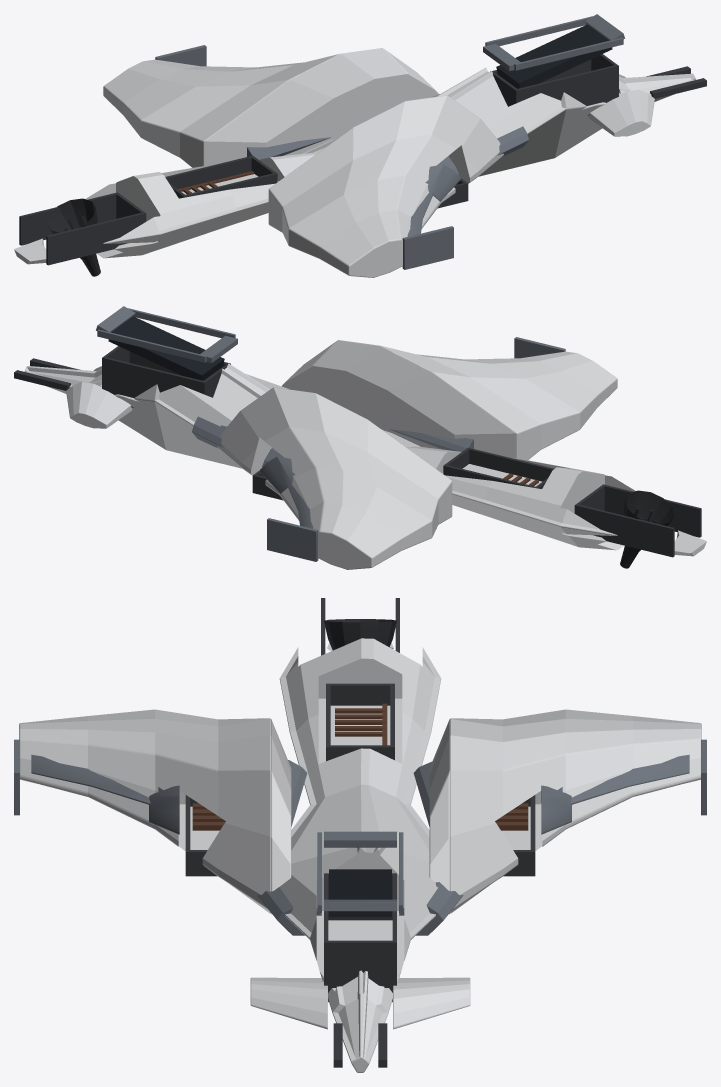
Rendered from hornet_production_v1_lod1.glb.
3 renders of one model, top to bottom at view 1: azimuth 30°, elevation 25°; view 2: azimuth 150°, elevation 25°; view 3: azimuth 270°, elevation 25°, orthographic. The views are drawn at different scales.
Visible parts, largest first — view 1: LOD0_Hull, LOD0_Wing_Port, LOD0_Wing_Stbd, LOD0_Drive_Fore, LOD0_VisorBrow, LOD0_Glass, LOD0_Canard_Port, LOD0_Bell; view 2: LOD0_Hull, LOD0_Wing_Stbd, LOD0_Wing_Port, LOD0_Drive_Fore, LOD0_VisorBrow, LOD0_Glass, LOD0_Canard_Stbd, LOD0_Bell; view 3: LOD0_Hull, LOD0_Wing_Port, LOD0_Wing_Stbd, LOD0_VisorBrow, LOD0_Drive_Fore, LOD0_Canard_Port, LOD0_Canard_Stbd, LOD0_RadiatorFin_Dorsal_0, LOD0_Glass, LOD0_Bell.
Boxes of the visible parts, box(x1,y1,x2,y2) form: LOD0_Hull: box(14, 48, 696, 264); LOD0_Wing_Port: box(268, 95, 503, 277); LOD0_Wing_Stbd: box(103, 48, 382, 167); LOD0_Drive_Fore: box(19, 54, 706, 265); LOD0_VisorBrow: box(155, 14, 624, 269); LOD0_Glass: box(496, 24, 612, 88); LOD0_Canard_Port: box(588, 90, 654, 136); LOD0_Bell: box(46, 198, 100, 276); LOD0_Hull: box(24, 340, 706, 556); LOD0_Wing_Stbd: box(217, 387, 452, 569); LOD0_Wing_Port: box(338, 340, 617, 460); LOD0_Drive_Fore: box(14, 346, 701, 557); LOD0_VisorBrow: box(96, 306, 565, 561); LOD0_Glass: box(108, 316, 224, 380); LOD0_Canard_Stbd: box(66, 382, 132, 428); LOD0_Bell: box(620, 490, 674, 568); LOD0_Hull: box(257, 638, 463, 1072); LOD0_Wing_Port: box(19, 709, 270, 913); LOD0_Wing_Stbd: box(450, 709, 701, 913); LOD0_VisorBrow: box(14, 739, 706, 913); LOD0_Drive_Fore: box(185, 598, 535, 1067); LOD0_Canard_Port: box(250, 977, 327, 1029); LOD0_Canard_Stbd: box(393, 977, 470, 1029); LOD0_RadiatorFin_Dorsal_0: box(192, 703, 528, 830); LOD0_Glass: box(329, 869, 391, 916); LOD0_Bell: box(324, 619, 396, 650).
Size of what is drawn, in the model's own units: 10.66 by 1.96 by 6.82.
